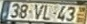3: (65, 5, 76, 22), (9, 2, 20, 19)
4: (56, 5, 65, 21)
8: (18, 3, 28, 19)
L: (42, 4, 50, 20)
V: (33, 4, 44, 19)
